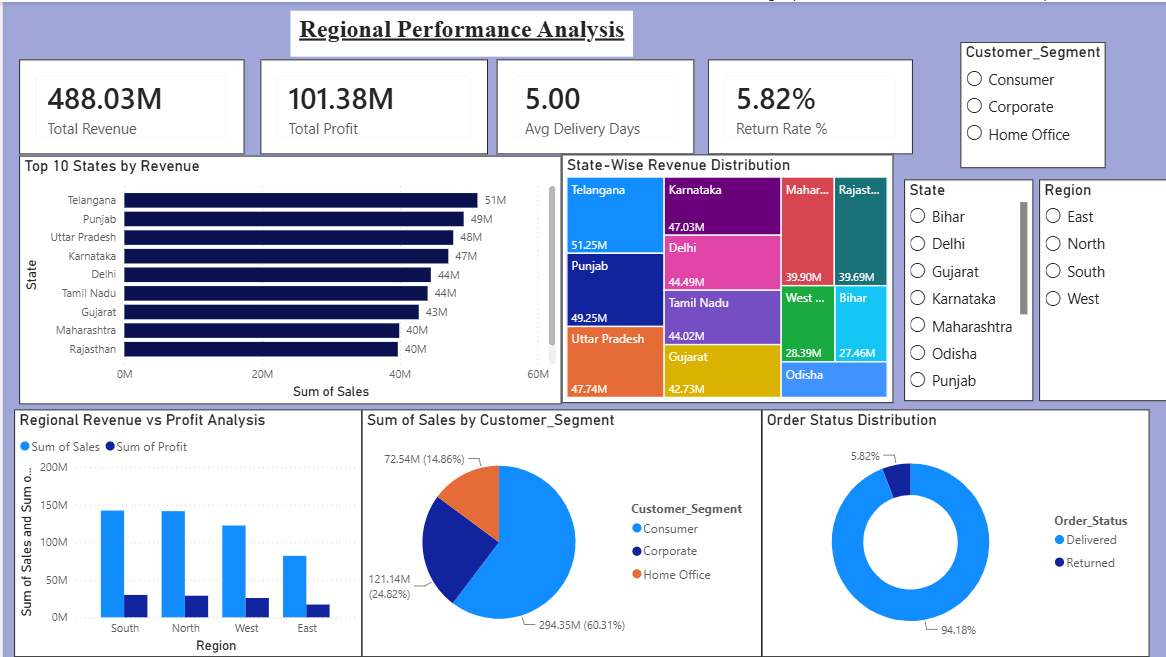

The dashboard page shown, as its layout file describes it:
{"tool":"powerbi","page":{"name":"Regional Performance Analysis","canvas":[1280,720],"ordinal":2},"visuals":[{"type":"cardVisual","fields":{"Data":["retail_sales_15000.Total Revenue"]},"box":[17.8,63.1,247,104.3],"z":0},{"type":"cardVisual","fields":{"Data":["retail_sales_15000.Total Profit"]},"box":[282.7,63.1,249.7,104.3],"z":1000},{"type":"cardVisual","fields":{"Data":["retail_sales_15000.Avg Delivery Days"]},"box":[542,63.1,216.8,104.3],"z":2000},{"type":"cardVisual","fields":{"Data":["retail_sales_15000.Return Rate %"]},"box":[773.9,63.1,225,104.3],"z":3000},{"type":"clusteredBarChart","title":"Top 10 States by Revenue","fields":{"Category":["retail_sales_15000.State"],"Y":["Sum(retail_sales_15000.Sales)"]},"box":[17.8,168.8,595.5,273.1],"z":4000},{"type":"clusteredColumnChart","title":"Regional Revenue vs Profit Analysis","fields":{"Category":["retail_sales_15000.Region"],"Y":["Sum(retail_sales_15000.Sales)","Sum(retail_sales_15000.Profit)"]},"box":[12.3,447.3,381.5,273.1],"z":5000},{"type":"donutChart","title":"Order Status Distribution","fields":{"Category":["retail_sales_15000.Order_Status"],"Y":["CountNonNull(retail_sales_15000.Order_ID)"]},"box":[832.9,447.3,425.4,273.1],"z":6000},{"type":"pieChart","fields":{"Category":["retail_sales_15000.Customer_Segment"],"Y":["Sum(retail_sales_15000.Sales)"]},"box":[393.8,447.3,439.1,273.1],"z":7000},{"type":"listSlicer","fields":{"Values":["retail_sales_15000.Region"]},"box":[1137.6,194.9,141.3,242.9],"z":8000},{"type":"treemap","title":"State-Wise Revenue Distribution","fields":{"Group":["retail_sales_15000.State"],"Values":["Sum(retail_sales_15000.Sales)"]},"box":[613.4,167.4,363.6,273.1],"z":9000},{"type":"listSlicer","fields":{"Values":["retail_sales_15000.State"]},"box":[989.4,194.9,141.3,242.9],"z":10000},{"type":"listSlicer","fields":{"Values":["retail_sales_15000.Customer_Segment"]},"box":[1051.1,43.9,159.2,138.6],"z":11000},{"type":"textbox","box":[315.6,9.6,376,50.8],"z":12000}]}

Visuals, with their boxes in screenshot pixels (x1, y1, x2, y2), scaled from the page's 1280x720 canvas onto the 1166x657 screenshot:
cardVisual - retail_sales_15000.Total Revenue: crop(16, 58, 241, 153)
cardVisual - retail_sales_15000.Total Profit: crop(258, 58, 485, 153)
cardVisual - retail_sales_15000.Avg Delivery Days: crop(494, 58, 691, 153)
cardVisual - retail_sales_15000.Return Rate %: crop(705, 58, 910, 153)
"Top 10 States by Revenue" clusteredBarChart: crop(16, 154, 559, 403)
"Regional Revenue vs Profit Analysis" clusteredColumnChart: crop(11, 408, 359, 656)
"Order Status Distribution" donutChart: crop(759, 408, 1146, 656)
pieChart - retail_sales_15000.Customer_Segment x Sum(retail_sales_15000.Sales): crop(359, 408, 759, 656)
listSlicer - retail_sales_15000.Region: crop(1036, 178, 1165, 399)
"State-Wise Revenue Distribution" treemap: crop(559, 153, 890, 402)
listSlicer - retail_sales_15000.State: crop(901, 178, 1030, 399)
listSlicer - retail_sales_15000.Customer_Segment: crop(957, 40, 1103, 167)
textbox: crop(287, 9, 630, 55)
